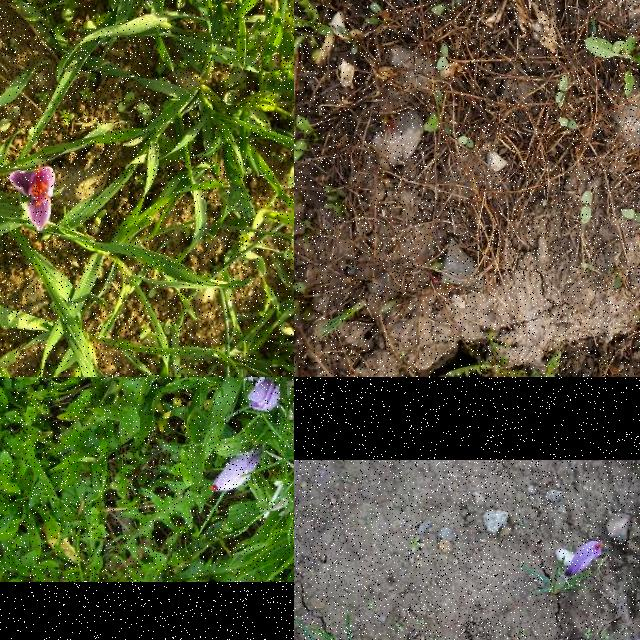flower: (9, 166, 55, 232), (210, 451, 260, 493), (564, 540, 606, 580), (247, 385, 281, 413), (245, 377, 271, 386)
